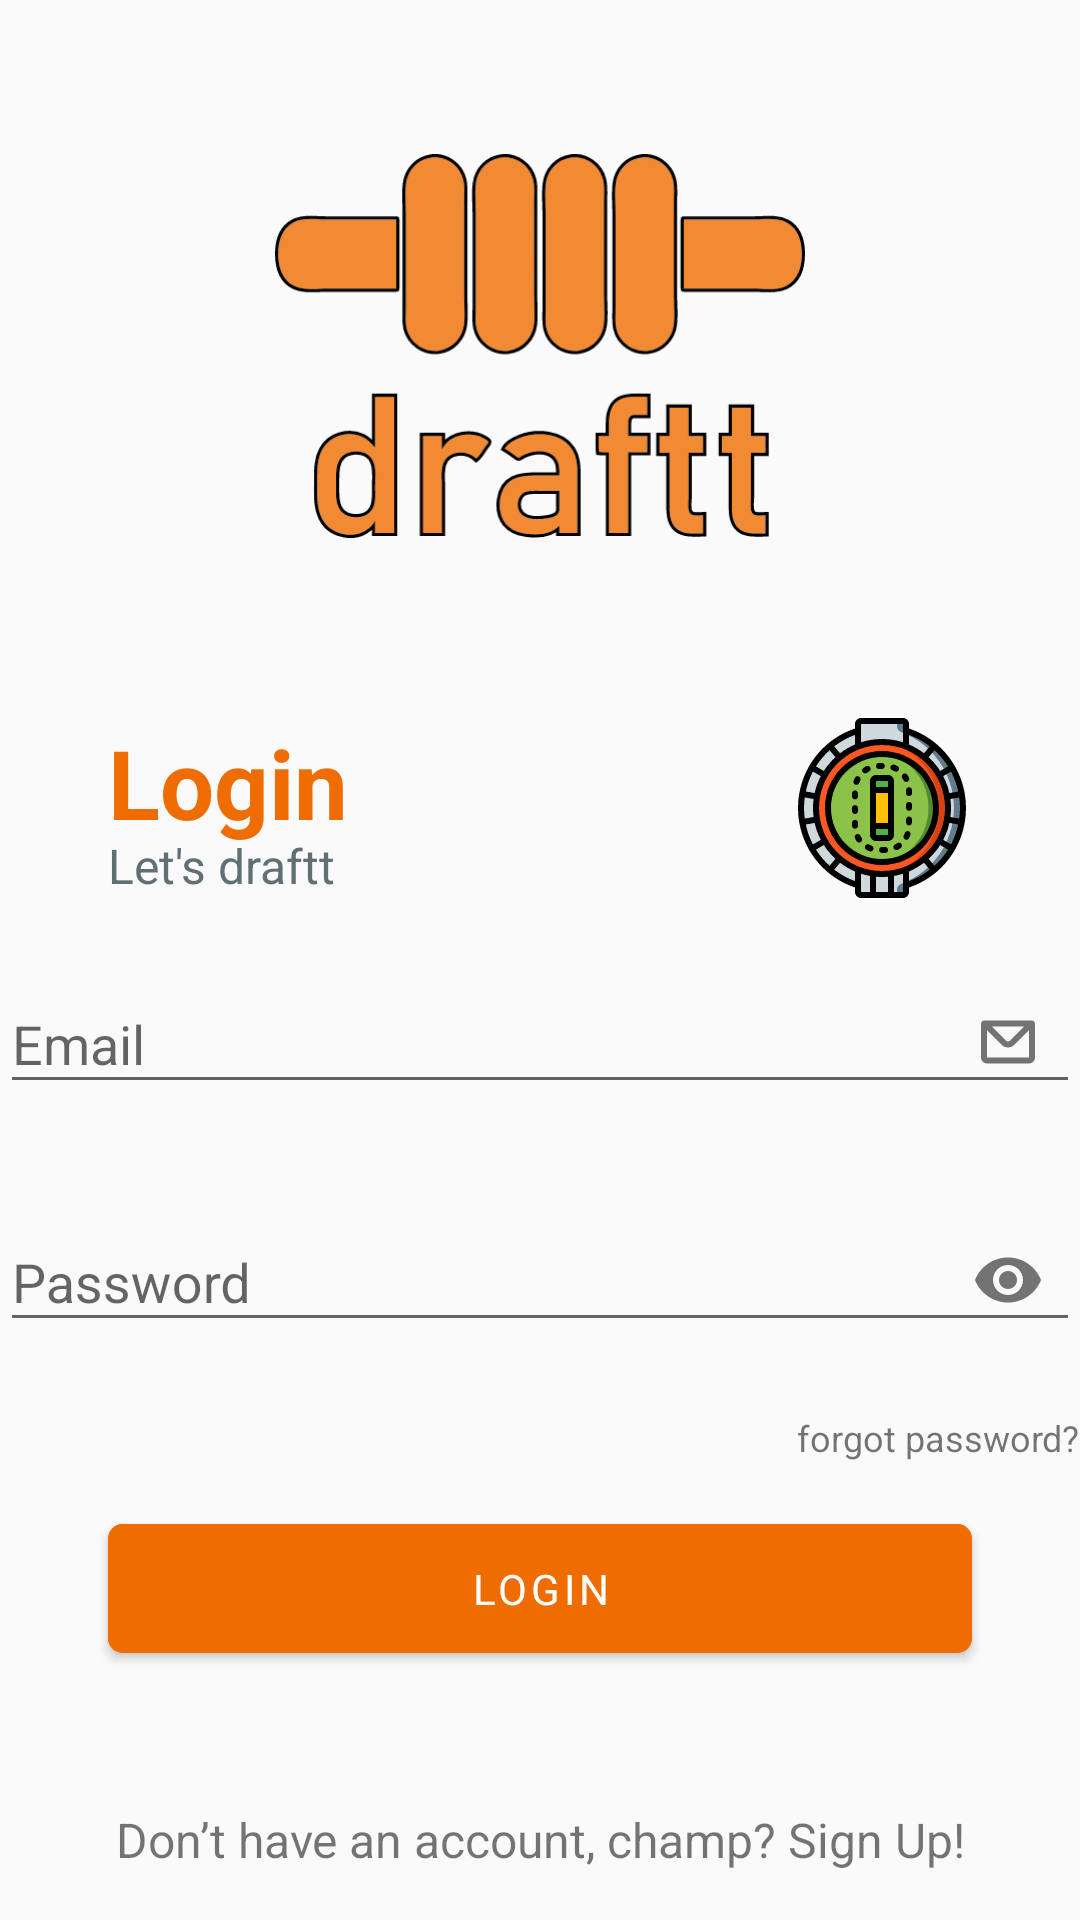

Icon click points for this 1080 × 1920 phone screenshot, format [x,y]:
Cricket Stadium graphic: [882,808]
